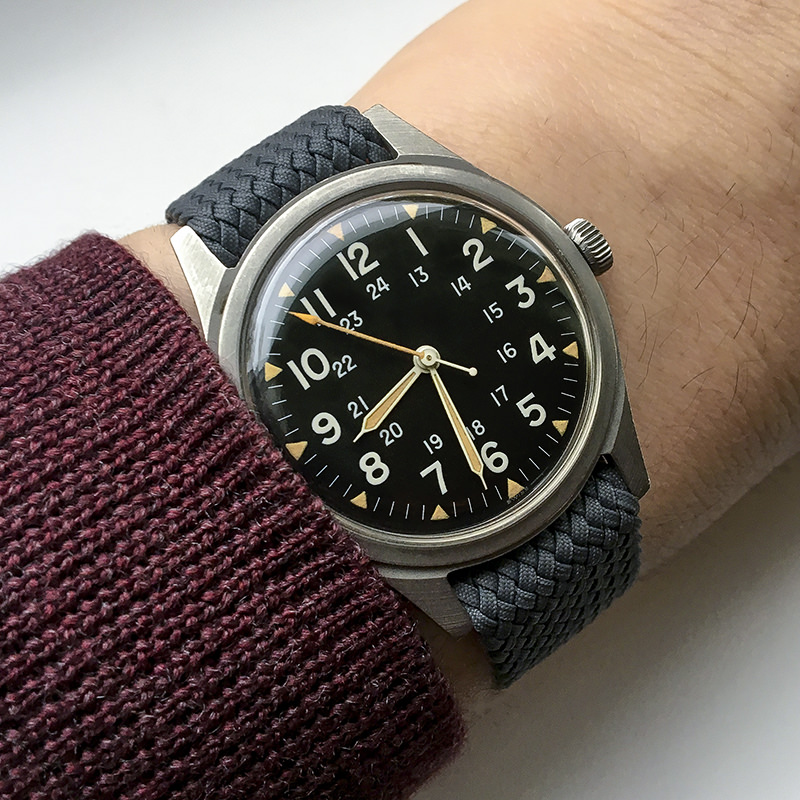clock: (242, 193, 590, 539)
